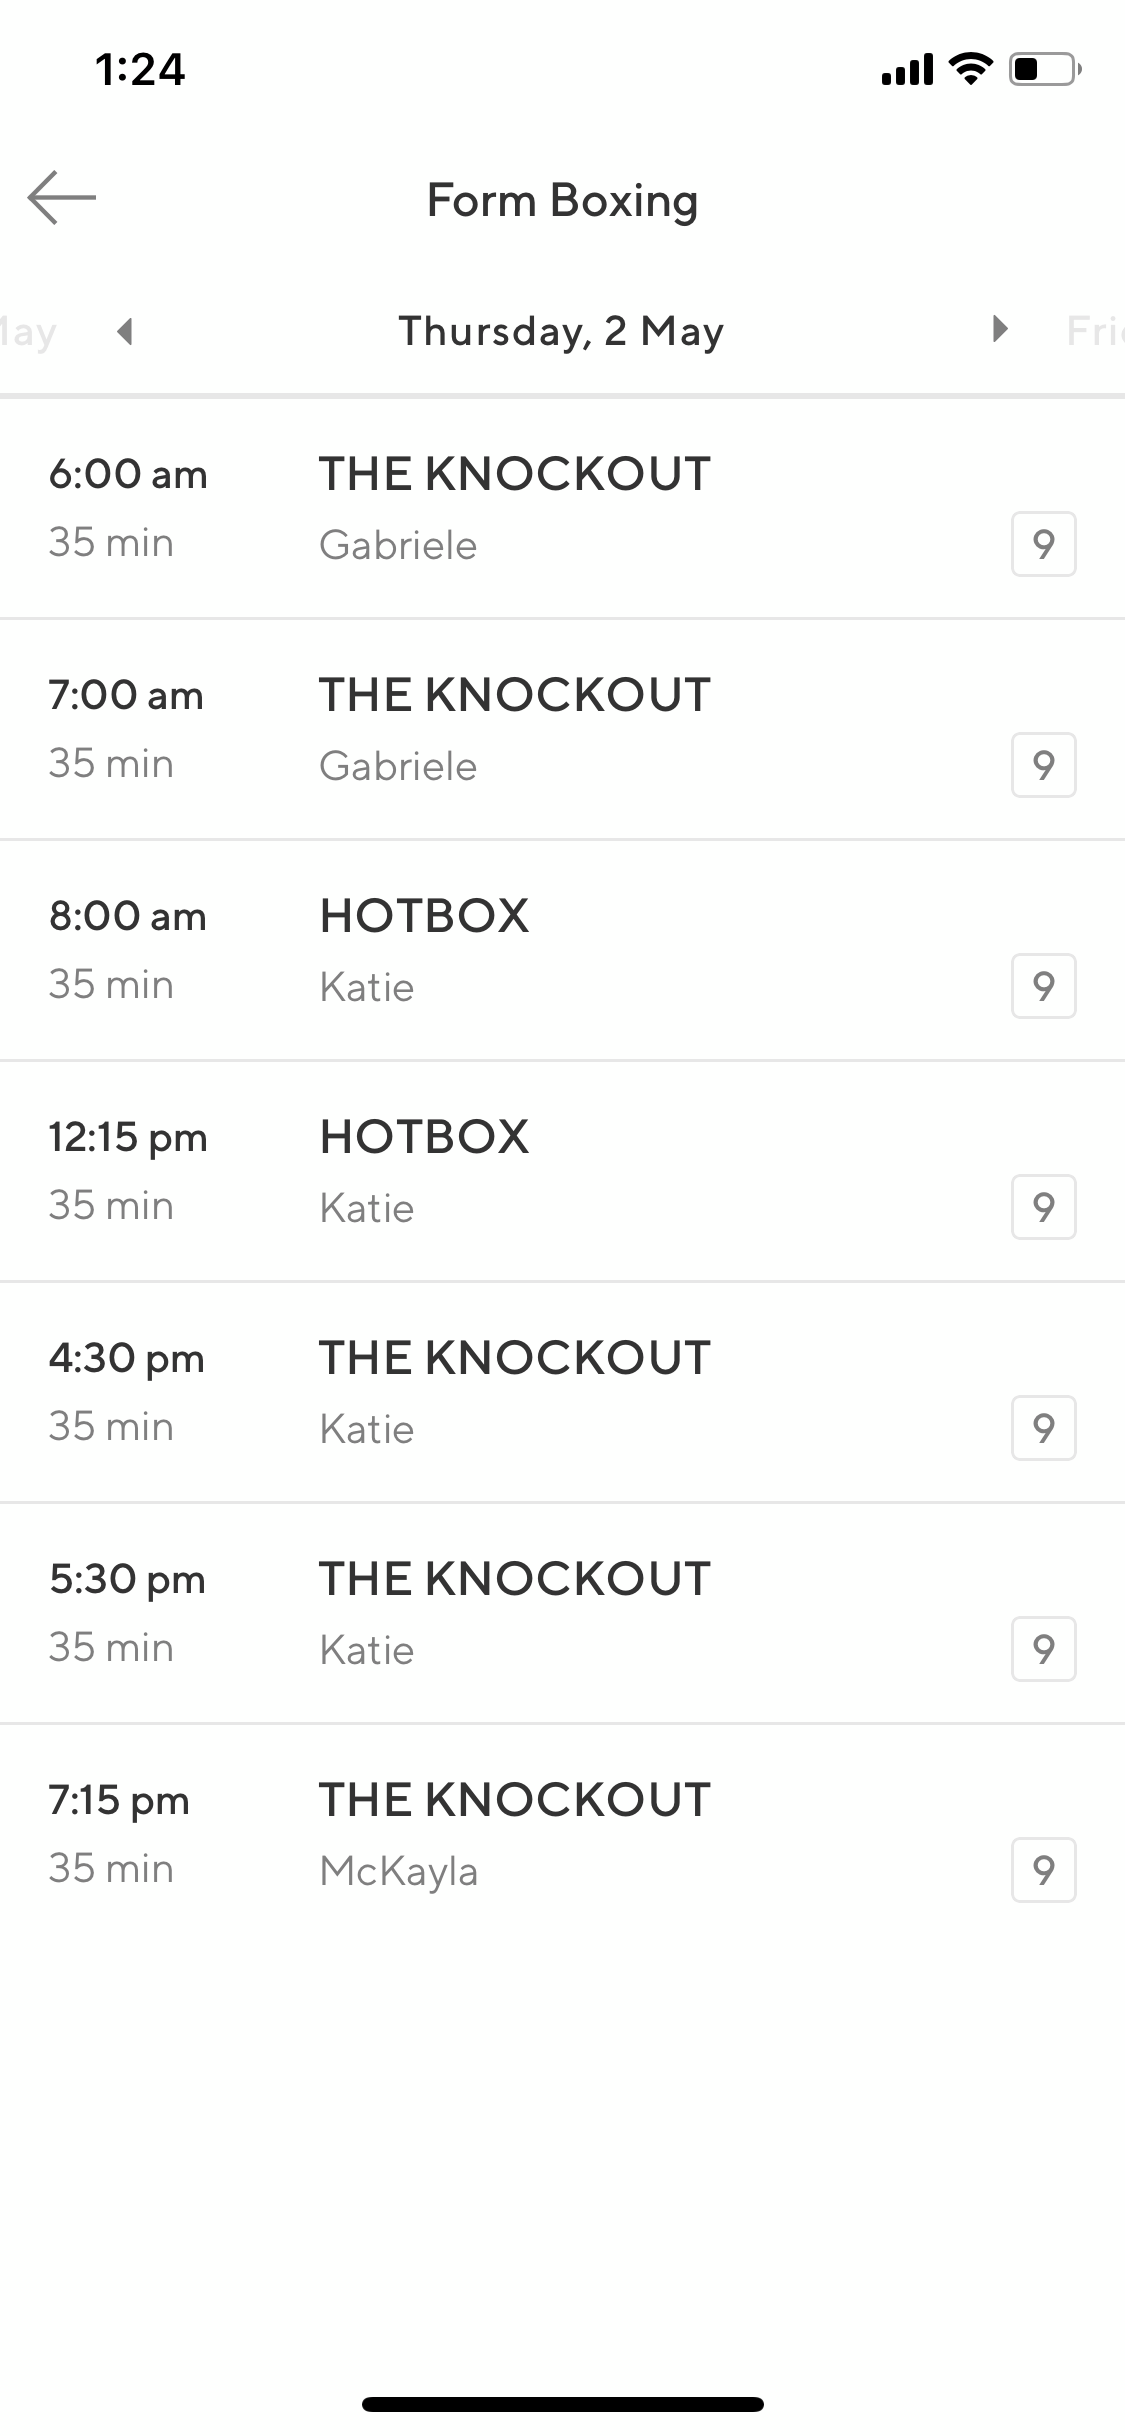Buttons: (2, 134, 135, 253)
